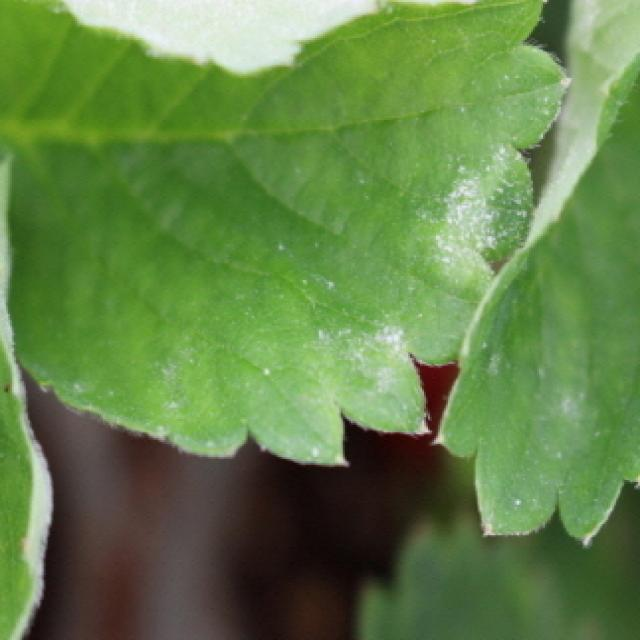Powdery Mildew Leaf: (429, 0, 640, 547)
